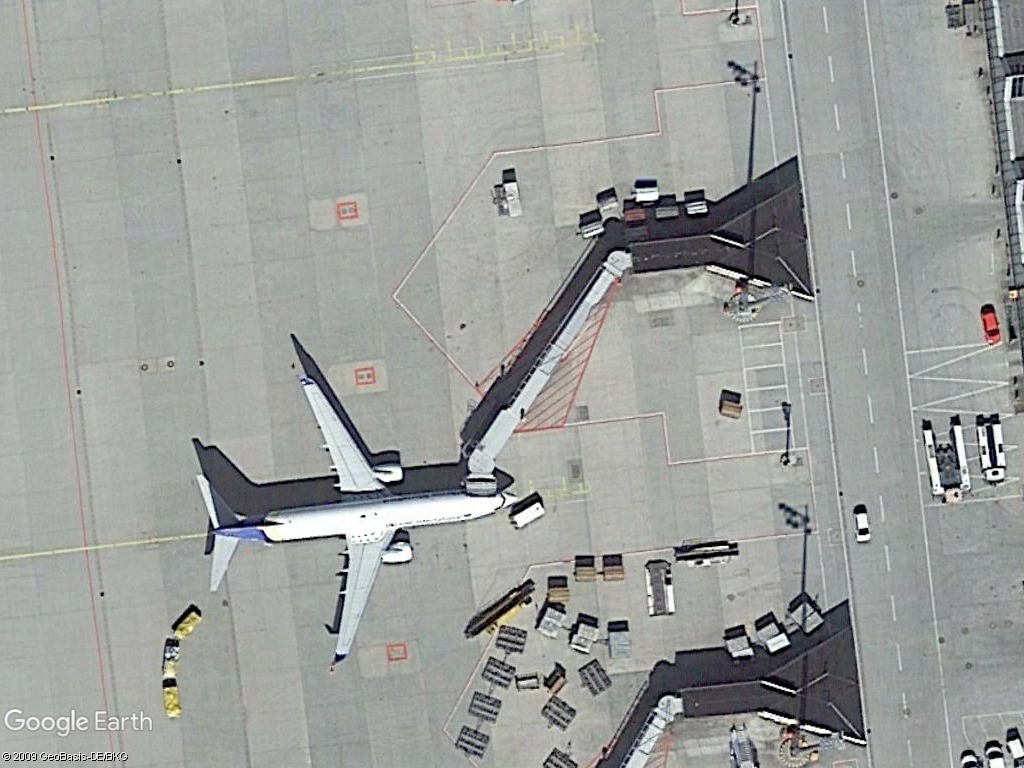airliner: (180, 370, 525, 669)
pushbacktruck: (922, 419, 976, 505)
